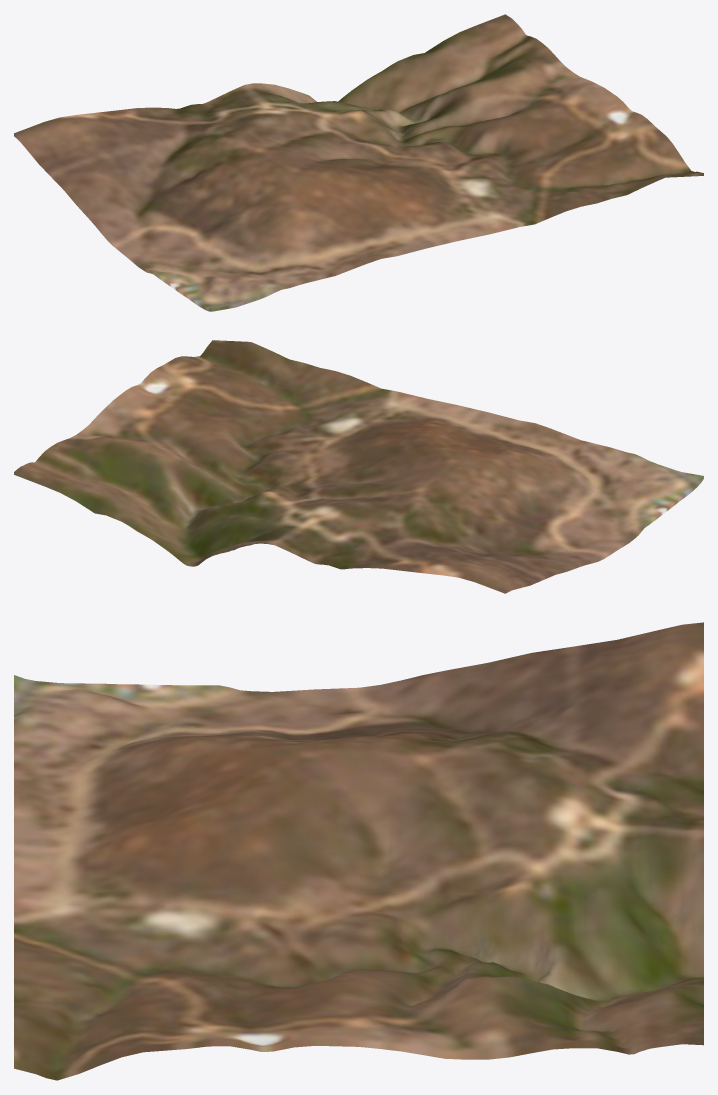
File: terrain_r1_c2_lod1.glb
3 views of the same model, one above another, from view 1: azimuth 30°, elevation 25°; view 2: azimuth 150°, elevation 25°; view 3: azimuth 270°, elevation 25° (orthographic). The views are drawn at different scales.
Visible parts, largest first — view 1: terrain_r1_c2_lod1; view 2: terrain_r1_c2_lod1; view 3: terrain_r1_c2_lod1.
Boxes of the visible parts, bbox=[...] form: terrain_r1_c2_lod1: bbox=[14, 14, 703, 311]; terrain_r1_c2_lod1: bbox=[14, 340, 703, 593]; terrain_r1_c2_lod1: bbox=[14, 622, 703, 1080].
Bounding box in the file's own units: 1125 × 128 × 787.
Materials: 1 (1 with a texture image).
